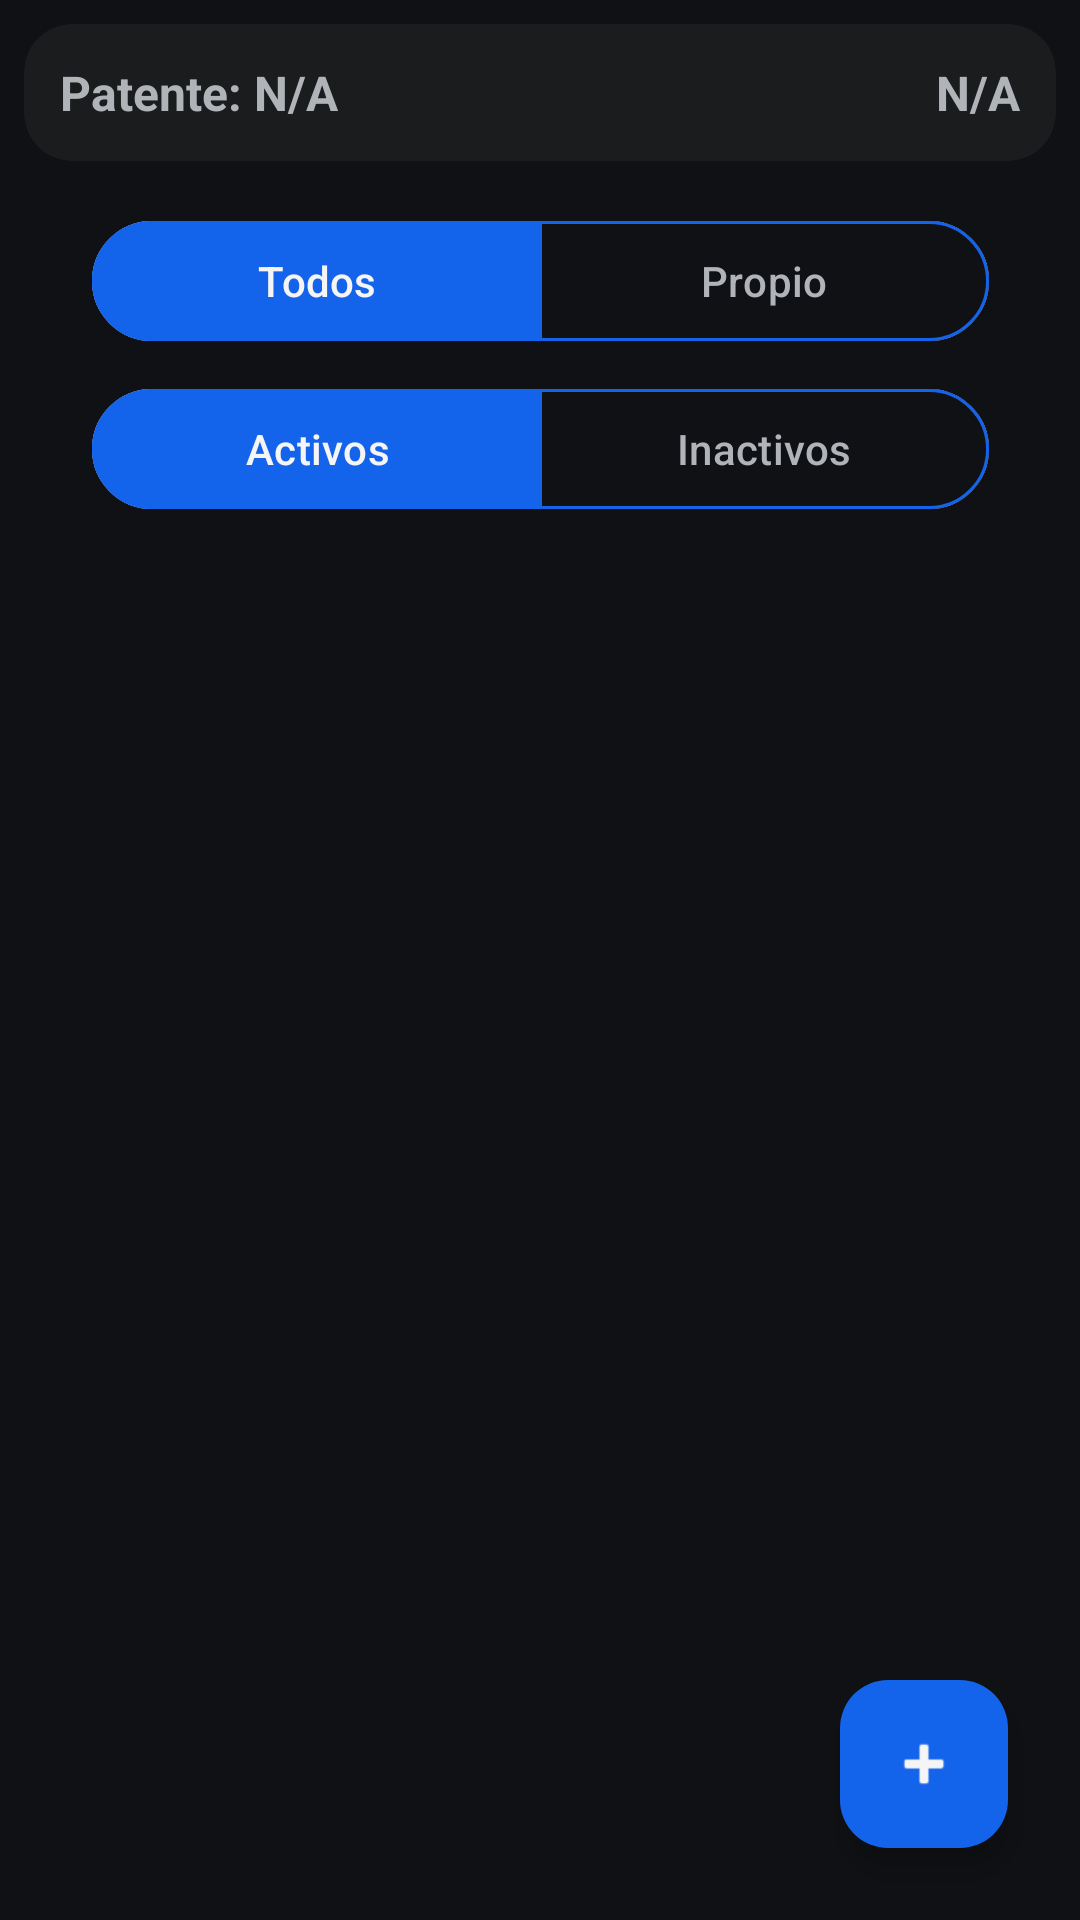

Named icons in this screenshot (1080 x 1920) and their centers, point (x, y):
Crear: point (924, 1764)
